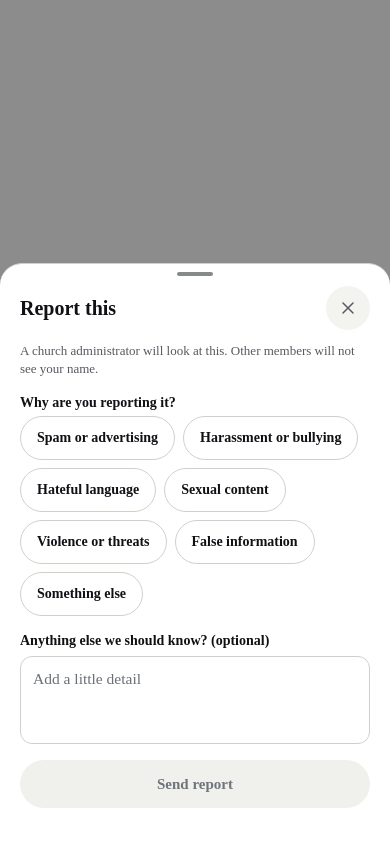
Test: sending › keeps the reason and the words, and says so, when it could not be sent
Click the radio button with test id "report-sheet-reason-misinformation".
click(245, 542)  # box [174,520,315,564]
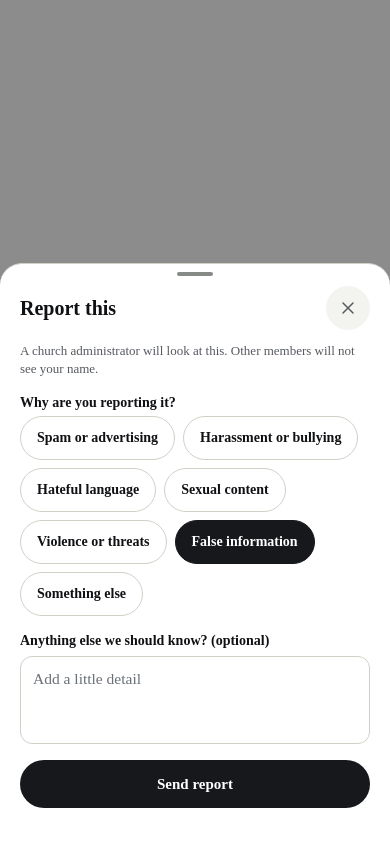
Type "It is not true." into the text box with test id "report-sheet-details".
click(195, 700); type("It is not true.")  # box [20,656,370,744]
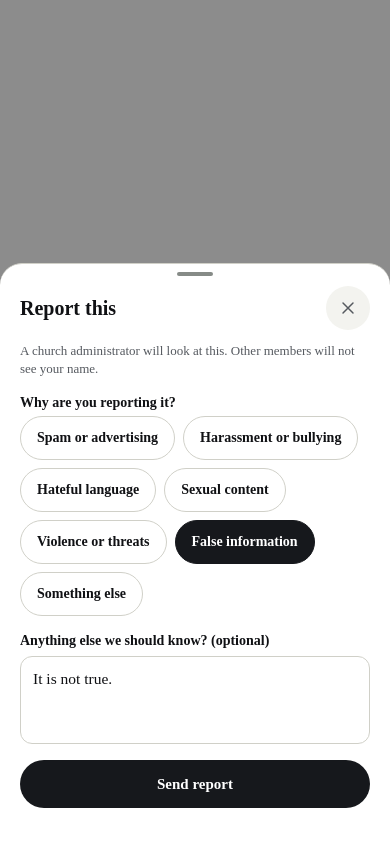
Click the button with test id "report-sheet-submit".
click(195, 784)  # box [20,760,370,808]
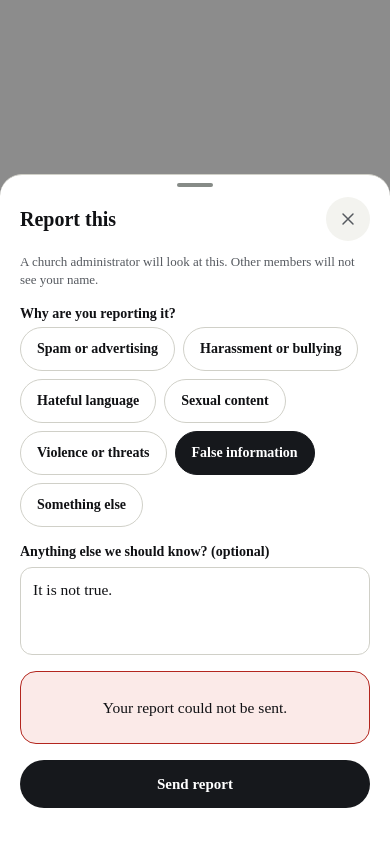
Expected: the radio button with test id "report-sheet-reason-misinformation" is selected, [174,431,315,475]
Now the element with test id "report-sheet-error" is shown, box [20,671,370,744]
Now the text "Your report could not be sent." is shown, box [103,696,287,719]
